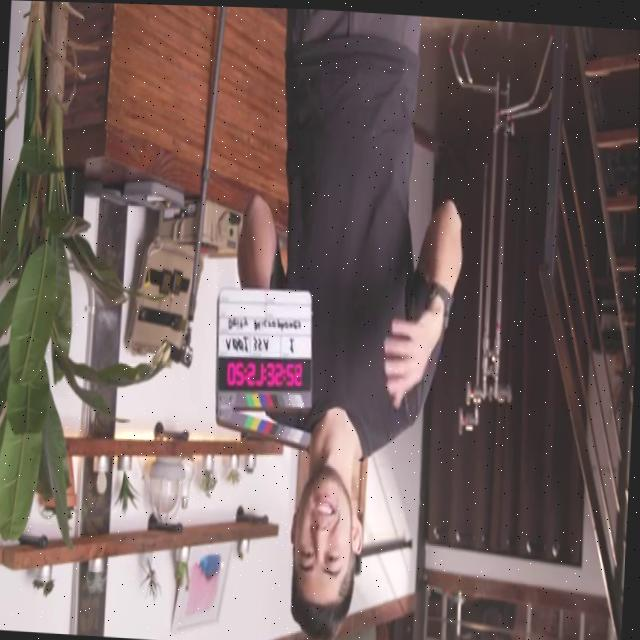Clapperboard: (206, 279, 317, 454)
